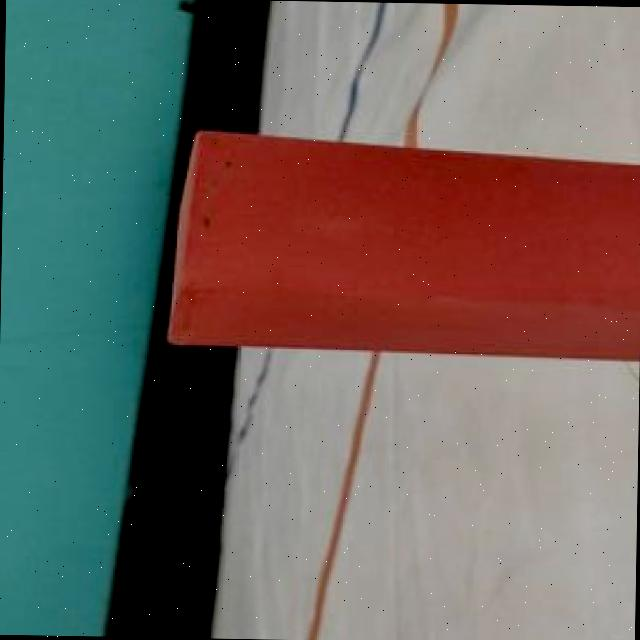redbox: (165, 127, 640, 362)
